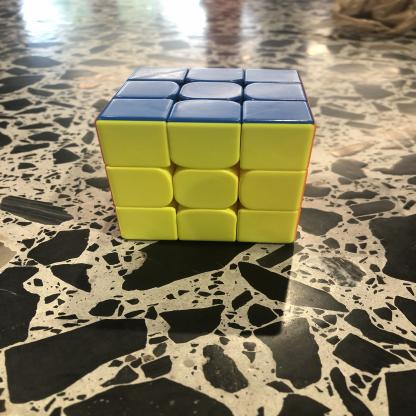SolvedCube: (86, 49, 336, 253)
